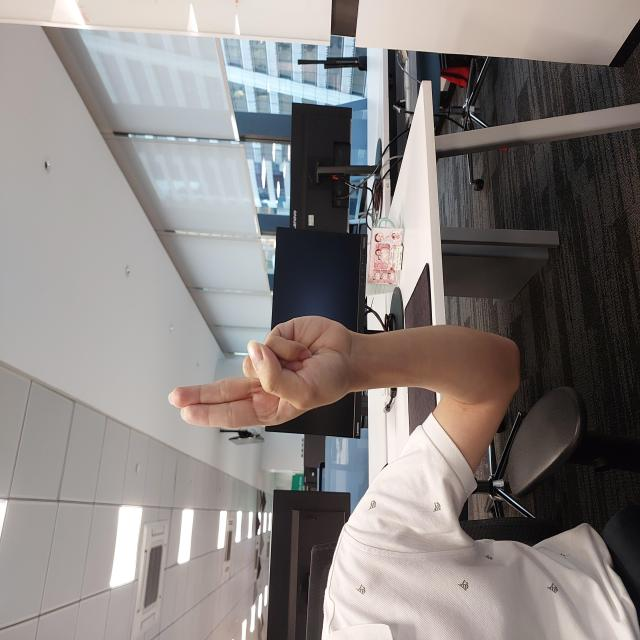U: (209, 165, 329, 360)
